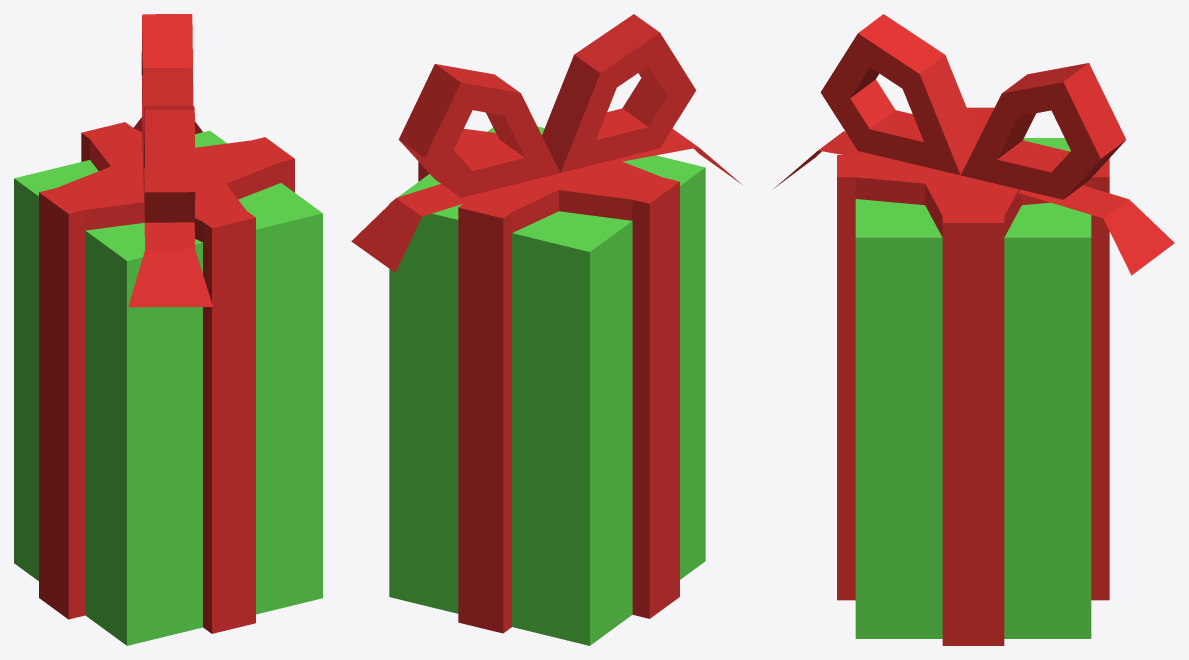
Rendered from prezent_1.fbx.
3 renders of one model, left to right at view 1: azimuth 30°, elevation 25°; view 2: azimuth 150°, elevation 25°; view 3: azimuth 270°, elevation 25°, orthographic. The views are drawn at different scales.
Visible parts, largest first — view 1: Cube.017; view 2: Cube.017; view 3: Cube.017.
Part boxes in pixels (box(x1,y1,x2,y2)): Cube.017: box(14, 14, 322, 645); Cube.017: box(351, 14, 742, 645); Cube.017: box(774, 14, 1174, 645).
Size of the model in its own units: 327 by 699 by 472.
